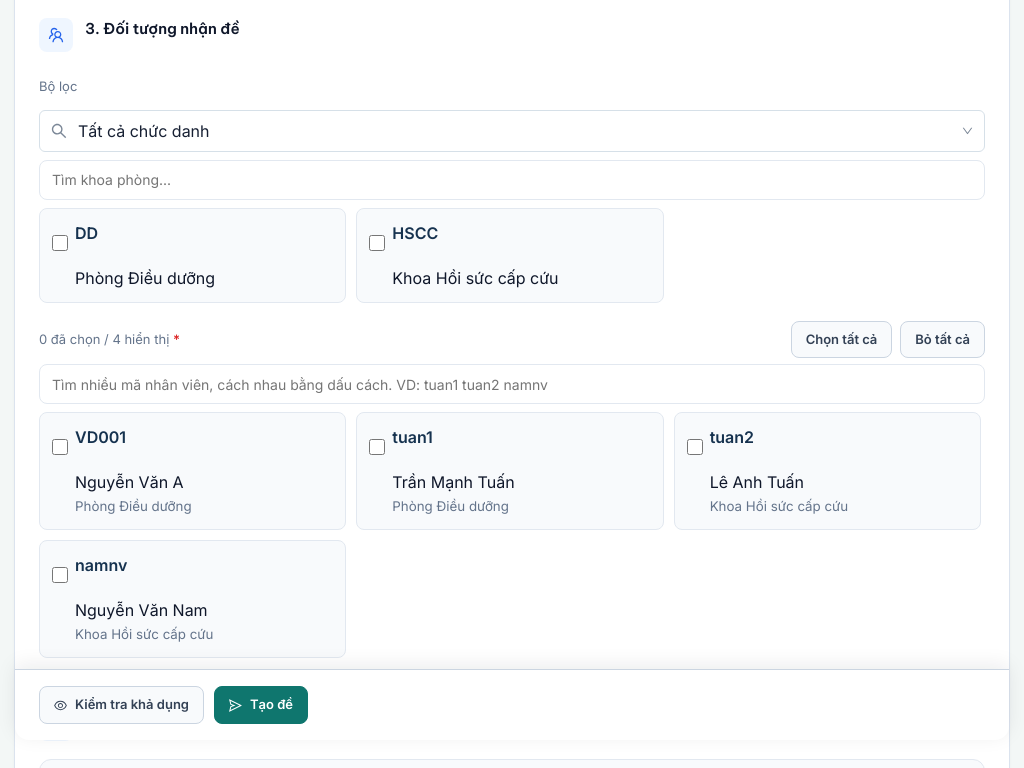
Test: ExamConfigPage blueprint flow › tim nhieu ma nhan vien cach nhau bang dau cach
(page scrolled)
Replace the text in the field named "Tìm nhân viên" with "tuan2 tuan1 namnv" at (512, 384), box [39,364,985,404]
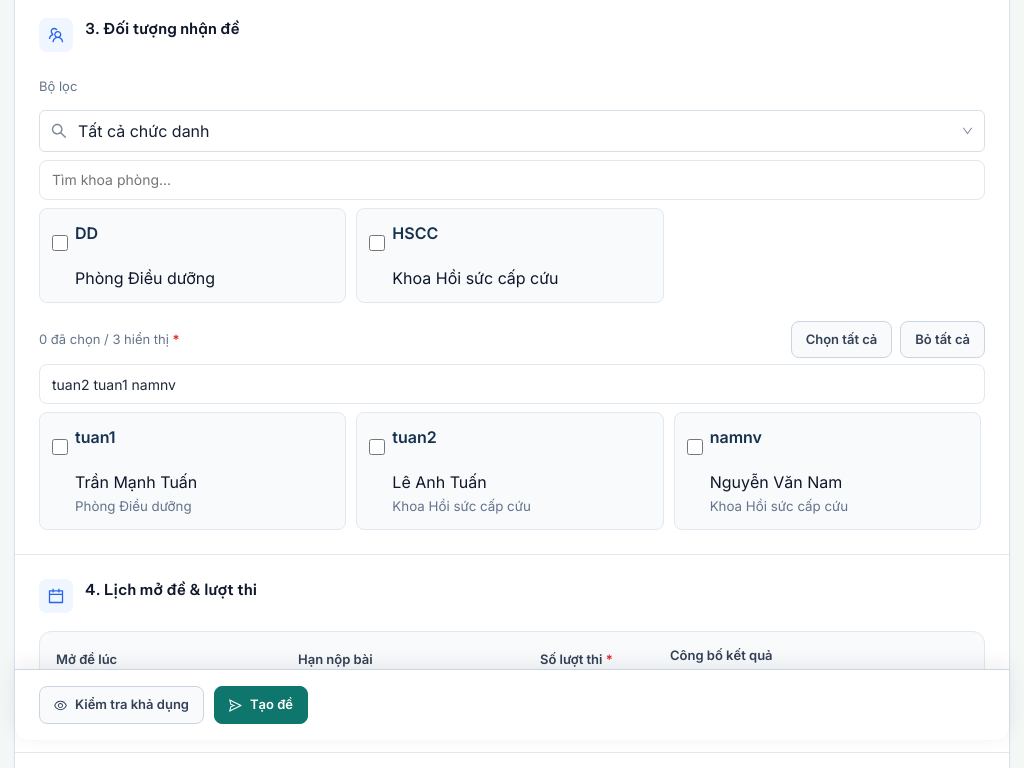
Expected: the text "tuan1" is shown, [75,427,116,447]
Expected: the text "VD001" is gone
Expected: the text "3 hiển thị" is shown, [39,330,180,349]
